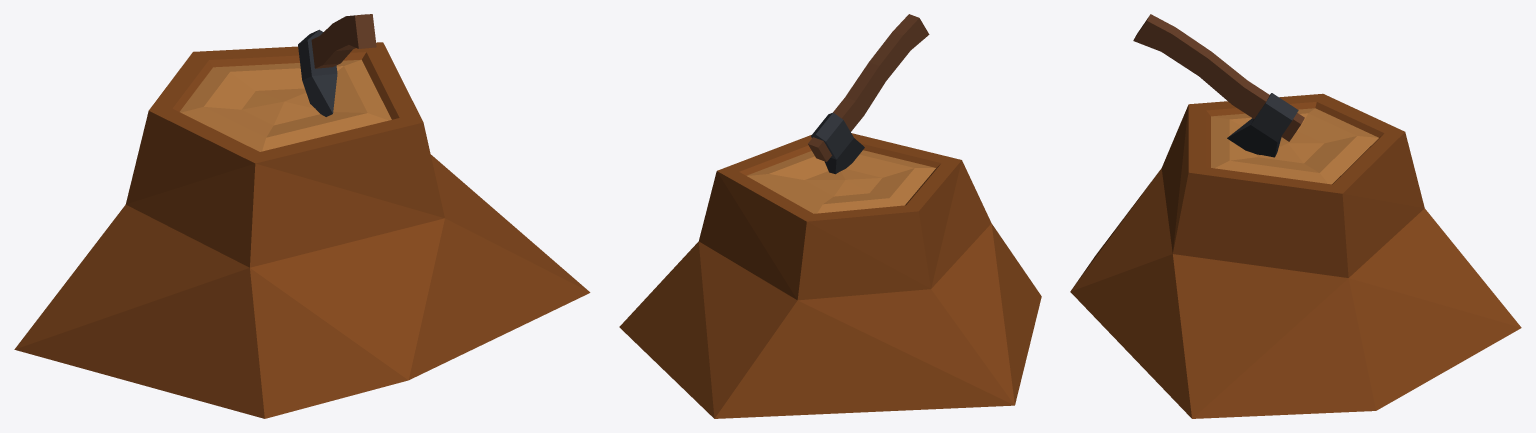
The model's file is TreeStump.fbx.
3 renders of one model, left to right at view 1: azimuth 30°, elevation 25°; view 2: azimuth 150°, elevation 25°; view 3: azimuth 270°, elevation 25°, orthographic. The views are drawn at different scales.
Parts seen in each view (by area): view 1: TreeStump; view 2: TreeStump; view 3: TreeStump.
Part boxes in pixels (bbox=[...]): TreeStump: bbox=[14, 14, 590, 418]; TreeStump: bbox=[619, 14, 1041, 418]; TreeStump: bbox=[1070, 14, 1521, 418].
Bounding box in the file's own units: 76.92 × 53.63 × 73.41.
